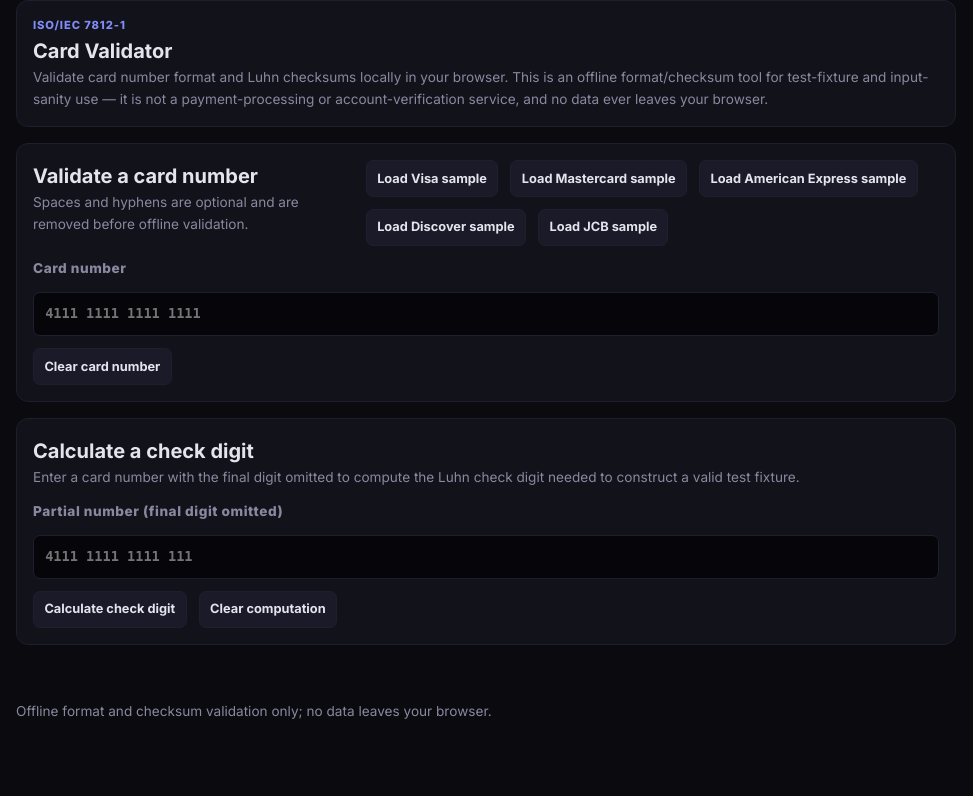
CardTool › shows a role alert for a non-digit character after normalization
The image size is (973, 796).
Type "4111 1111 1111 111X" into the field labelled "Card number".
click(486, 314); type("4111 1111 1111 111X")  # box [33, 292, 939, 336]
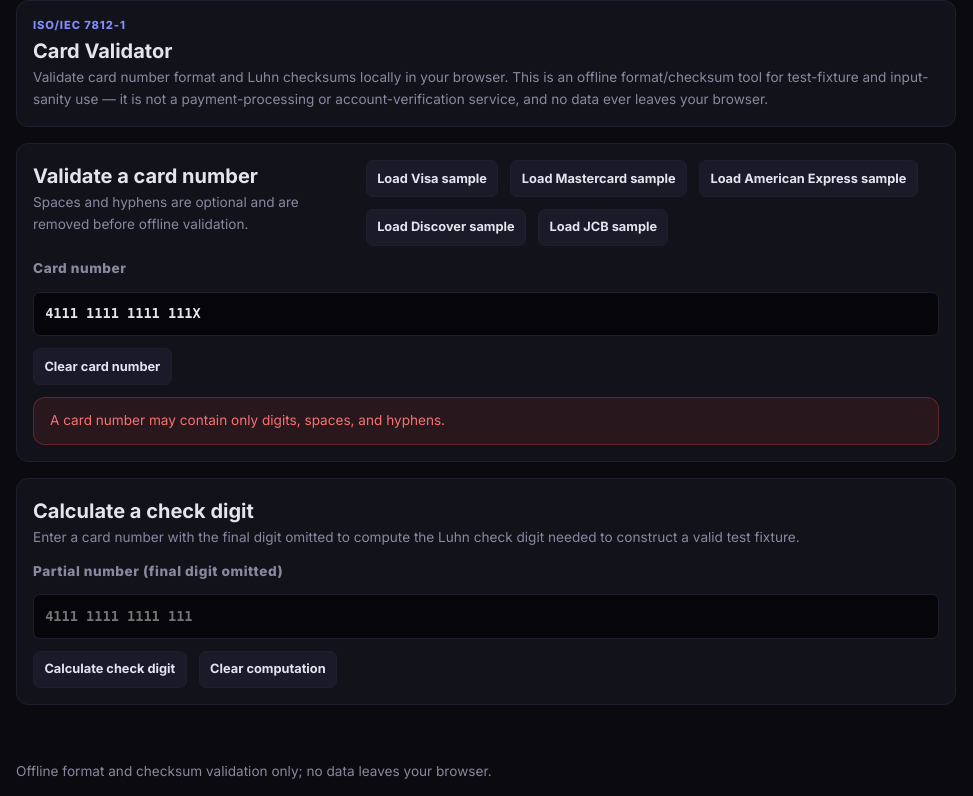
Check: the message "A card number may contain only digits, spaces, and hyphens." is shown, box [33, 397, 939, 445]
